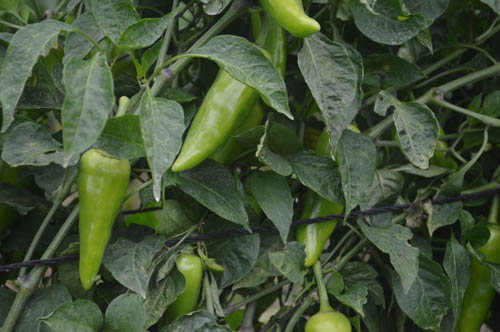ChiliPepper: (172, 51, 270, 173), (220, 21, 287, 164), (77, 154, 128, 284), (460, 226, 500, 331), (297, 188, 340, 269), (262, 1, 319, 40), (169, 257, 202, 321), (307, 315, 343, 332)
